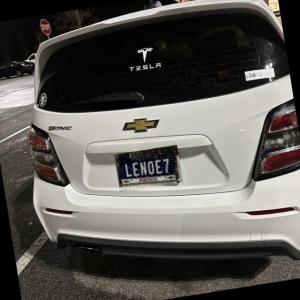Plate: (114, 143, 182, 187)
